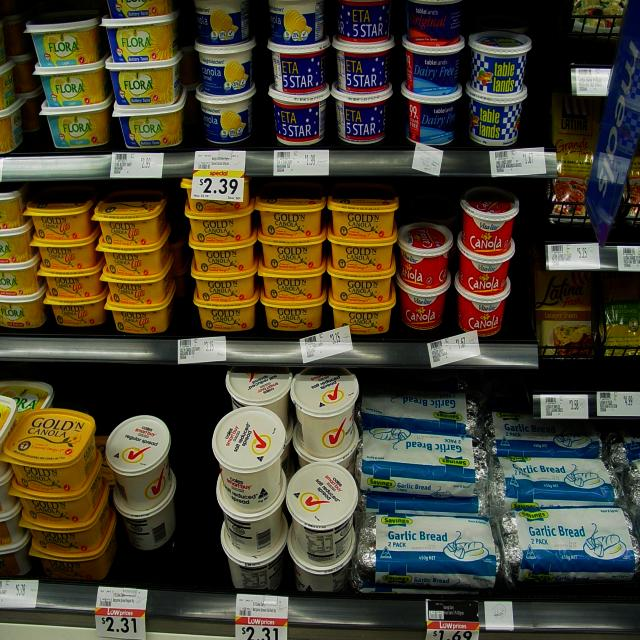empty_space: (176, 366, 212, 590), (119, 547, 169, 587), (478, 0, 531, 36), (403, 194, 453, 227)
